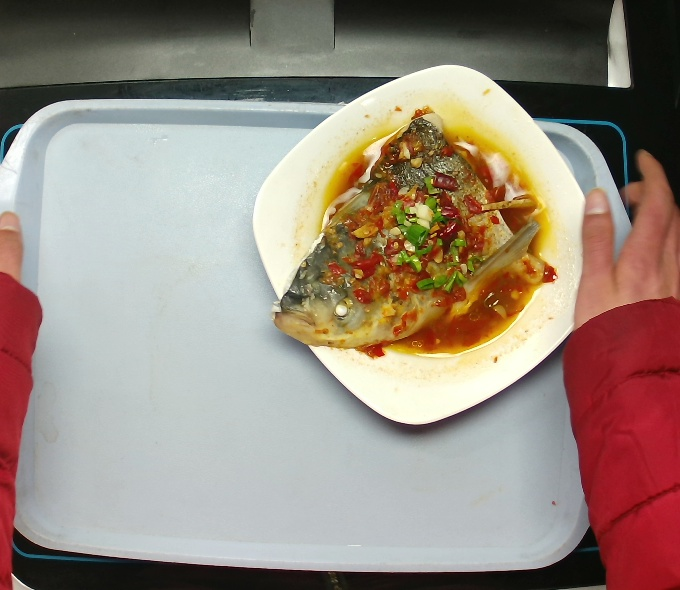wcq-DuoJiaoYuTou: (271, 104, 557, 357)
